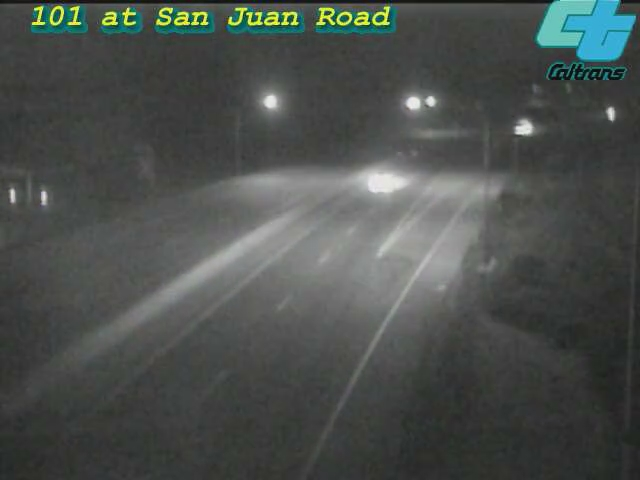vehicle: (357, 138, 437, 218), (515, 100, 565, 150), (586, 88, 636, 138)
